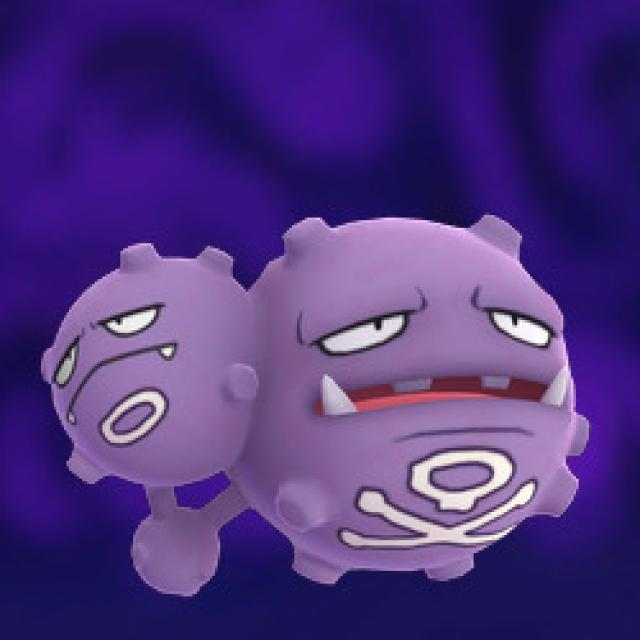Weezing: (36, 216, 586, 598)
